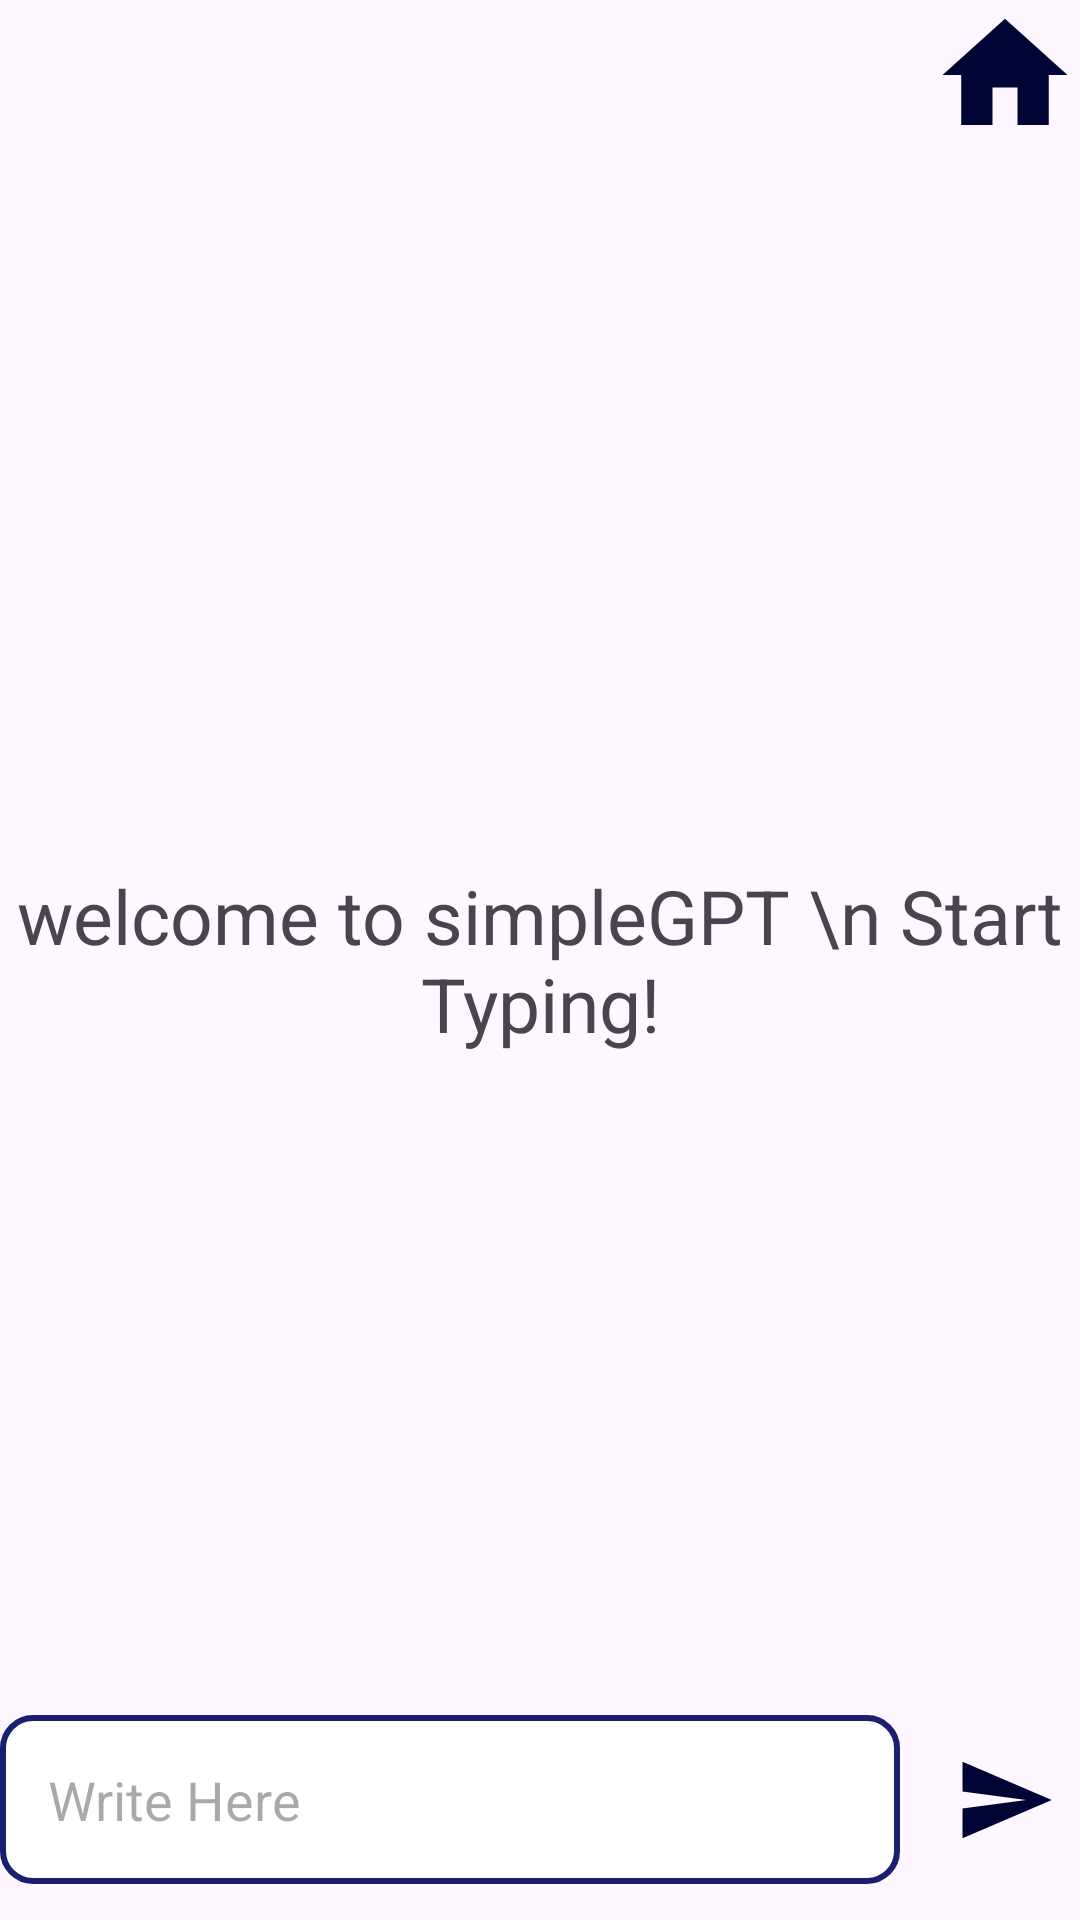

Where to tap for icons on this 1080*1920 app screen, as point (x, y):
home: point (1005, 72)
send: point (1007, 1800)
